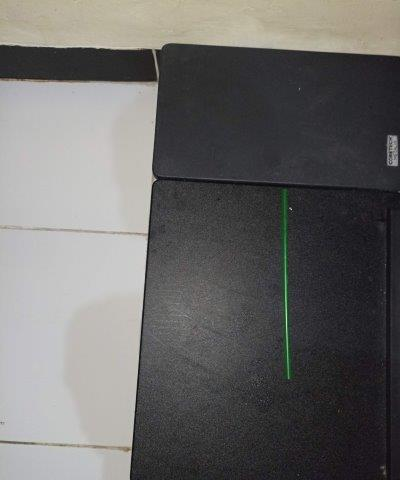sedotan: (281, 190, 292, 379)
